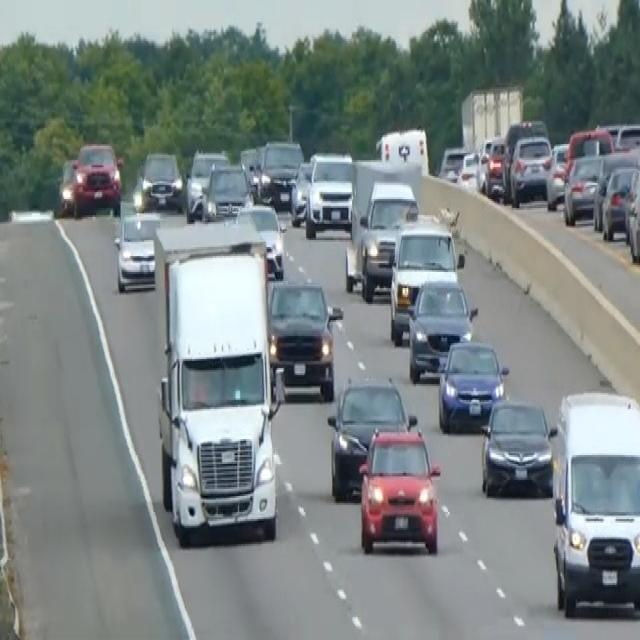car: (326, 372, 415, 499), (357, 423, 441, 555), (388, 217, 464, 345), (267, 276, 343, 402), (479, 395, 555, 496), (406, 276, 477, 382), (357, 178, 418, 300), (437, 336, 509, 432), (304, 150, 354, 236), (113, 208, 162, 292), (235, 199, 285, 279), (71, 141, 122, 215), (509, 132, 554, 206), (257, 137, 303, 208), (184, 146, 229, 218), (134, 148, 184, 212), (200, 160, 253, 220), (562, 151, 605, 224), (600, 164, 637, 242), (475, 135, 506, 197), (289, 158, 313, 224), (546, 140, 569, 208), (625, 166, 639, 262), (239, 142, 263, 198), (56, 157, 78, 215), (438, 142, 468, 183), (457, 150, 479, 188)
lorry: (150, 217, 285, 546)
minibus: (549, 387, 639, 617)
